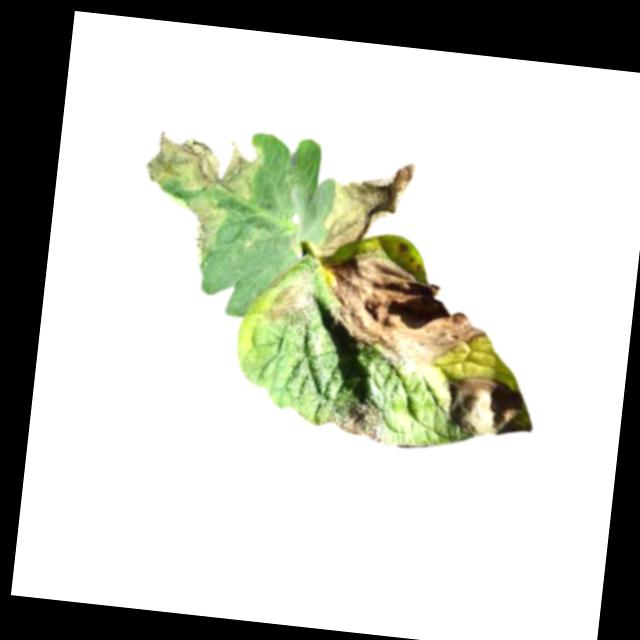Late_blight: (317, 251, 494, 375), (131, 126, 265, 271), (314, 149, 420, 263), (440, 371, 538, 442), (265, 266, 318, 329), (327, 393, 387, 443)
